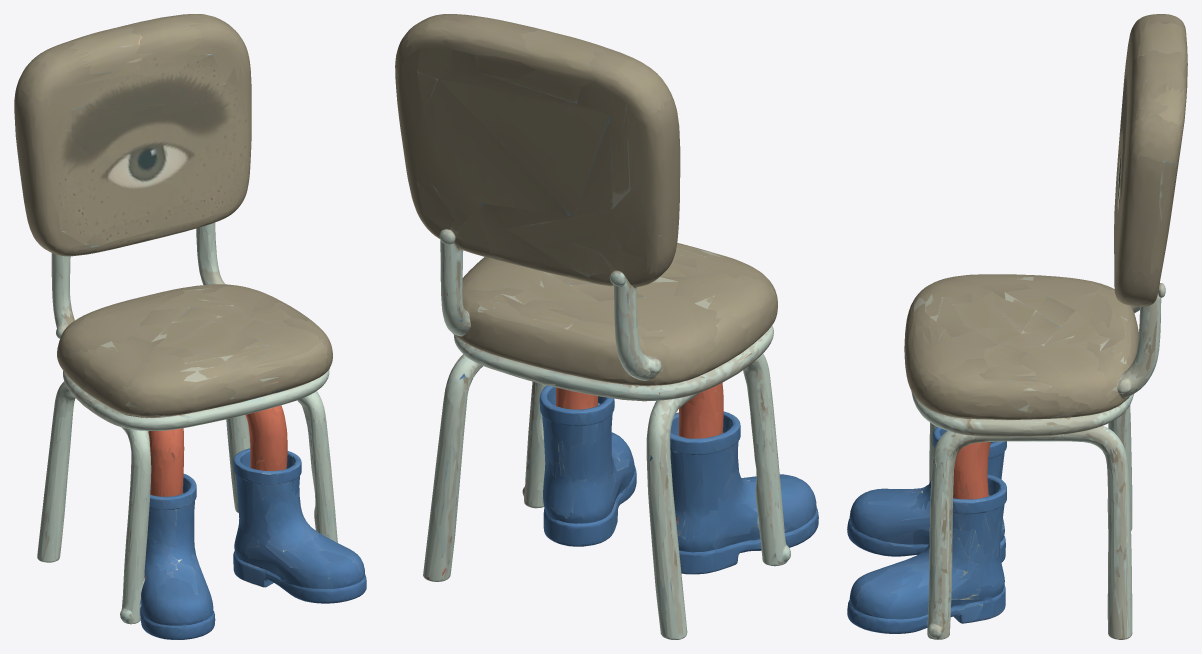
The model's file is eye_chair.glb.
The picture shows the model from 3 angles, left to right: view 1: azimuth 30°, elevation 25°; view 2: azimuth 150°, elevation 25°; view 3: azimuth 270°, elevation 25°; orthographic projection. The views are drawn at different scales.
Bounding box in the file's own units: 0.9186 × 1.9 × 1.1.
1 material, 1 textured.
